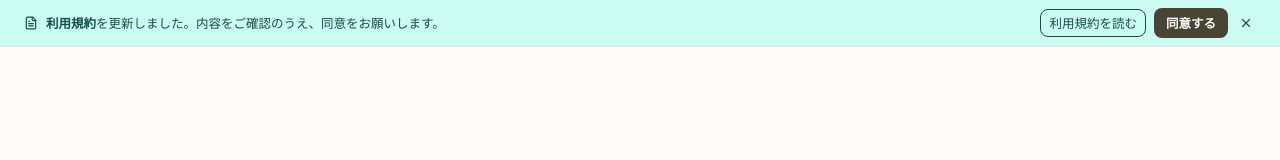
Test case: GAP-206 再同意の導線 › 記録に失敗したら理由を出し、読み直しを促す（黙って成功にしない）
The width and height of the screenshot is (1280, 160).
Click the button "同意する": point(1191, 23) [1154,8,1228,38]
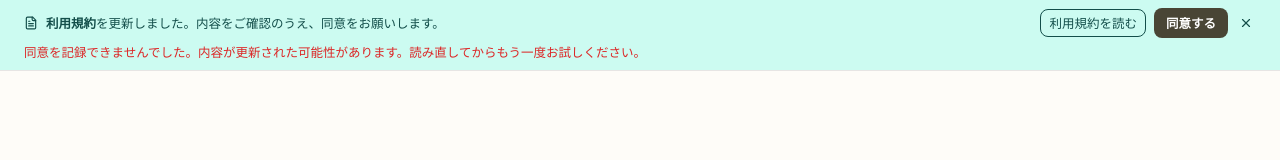
Expected: the message shows "読み直して", [24,42,646,61]
